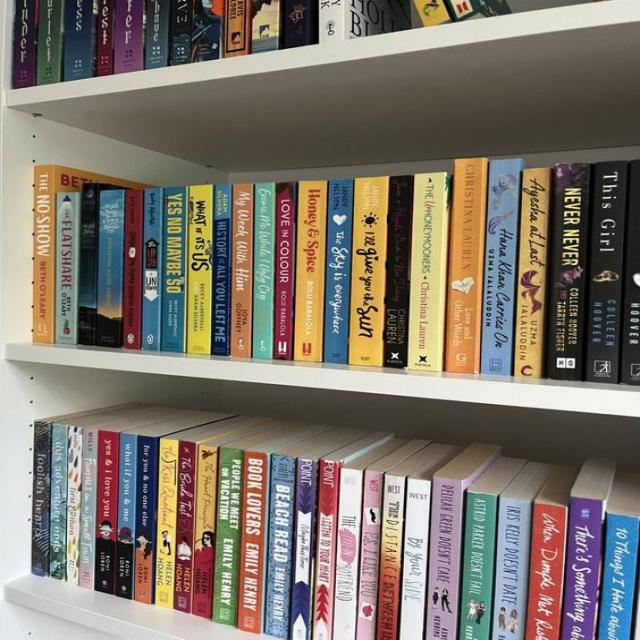book: (543, 163, 589, 381), (587, 161, 629, 383), (444, 159, 487, 374), (513, 167, 553, 378), (481, 159, 520, 375), (407, 171, 448, 372), (348, 176, 389, 366), (293, 181, 328, 362), (424, 476, 462, 640), (382, 175, 413, 370), (561, 497, 603, 640), (238, 451, 270, 634), (491, 498, 532, 640), (331, 468, 364, 640), (212, 448, 244, 625), (525, 502, 566, 640), (265, 454, 295, 639), (597, 512, 640, 640), (459, 492, 496, 640), (322, 179, 351, 364), (400, 477, 432, 640), (374, 474, 405, 640), (355, 470, 385, 640), (289, 458, 316, 640), (312, 460, 339, 640), (191, 444, 217, 618), (95, 190, 122, 348), (252, 183, 276, 359), (186, 185, 211, 353), (161, 186, 186, 353), (230, 184, 254, 357), (155, 437, 179, 609), (31, 165, 54, 342), (95, 430, 119, 596), (274, 182, 296, 359), (114, 432, 137, 600), (210, 184, 232, 355), (175, 440, 196, 613), (55, 191, 77, 344), (141, 187, 161, 351), (78, 182, 98, 345), (135, 435, 154, 604), (122, 189, 142, 349), (31, 421, 51, 577), (79, 428, 98, 589), (49, 423, 68, 581), (65, 425, 82, 584)
